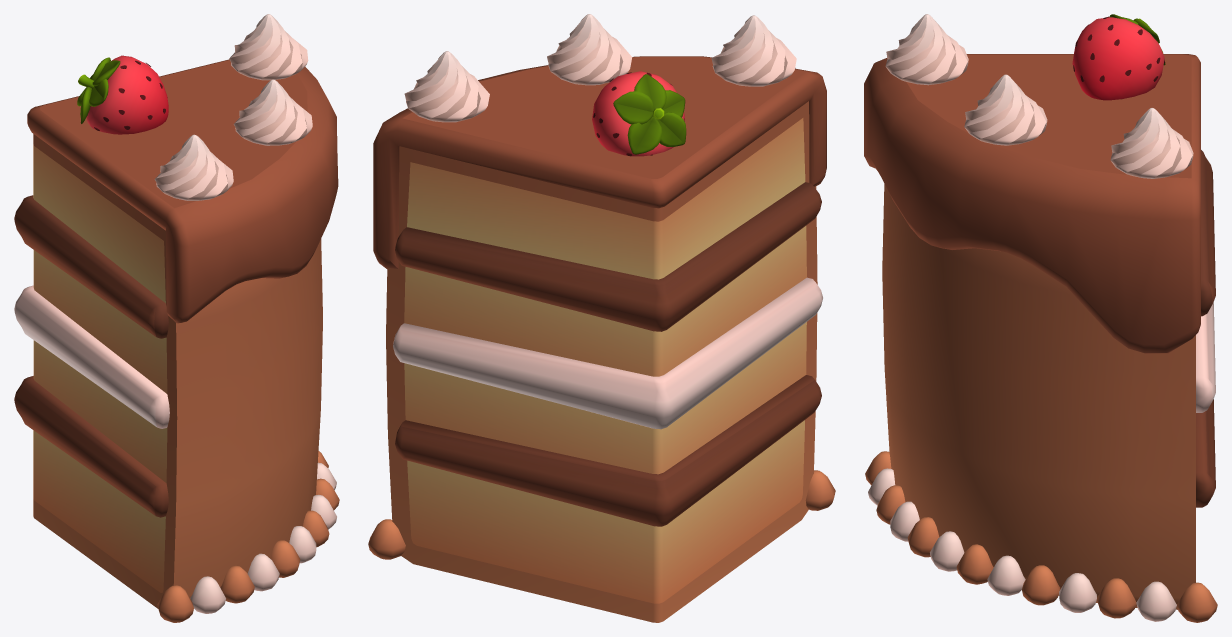
The model's file is Cake_Chocolate_Slice_V2_00.fbx.
The picture shows the model from 3 angles, left to right: view 1: azimuth 30°, elevation 25°; view 2: azimuth 150°, elevation 25°; view 3: azimuth 270°, elevation 25°; orthographic projection. The views are drawn at different scales.
Parts seen in each view (by area): view 1: Cake_Chocolate_Slice_V2_00; view 2: Cake_Chocolate_Slice_V2_00; view 3: Cake_Chocolate_Slice_V2_00.
Boxes of the visible parts, x1=… form: Cake_Chocolate_Slice_V2_00: x1=14, y1=14, x2=339, y2=622; Cake_Chocolate_Slice_V2_00: x1=368, y1=14, x2=835, y2=622; Cake_Chocolate_Slice_V2_00: x1=864, y1=14, x2=1217, y2=622.
Size of the model in its own units: 34.82 by 54.94 by 35.03.
